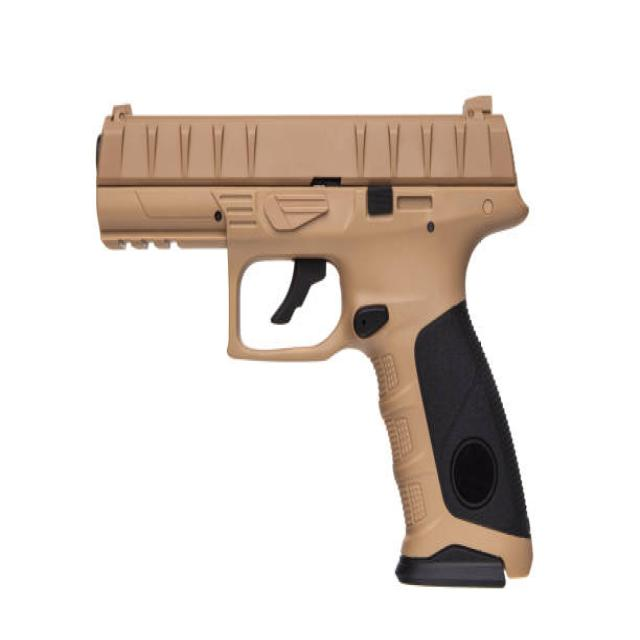pistol: (88, 89, 540, 597)
